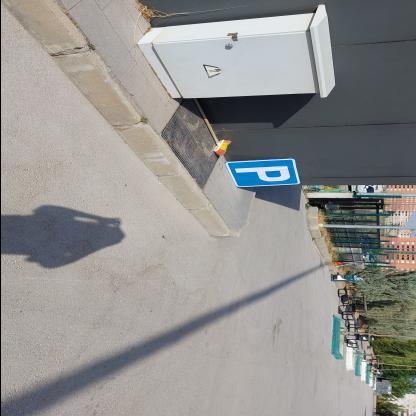Parking-Sign: (225, 159, 301, 189)
